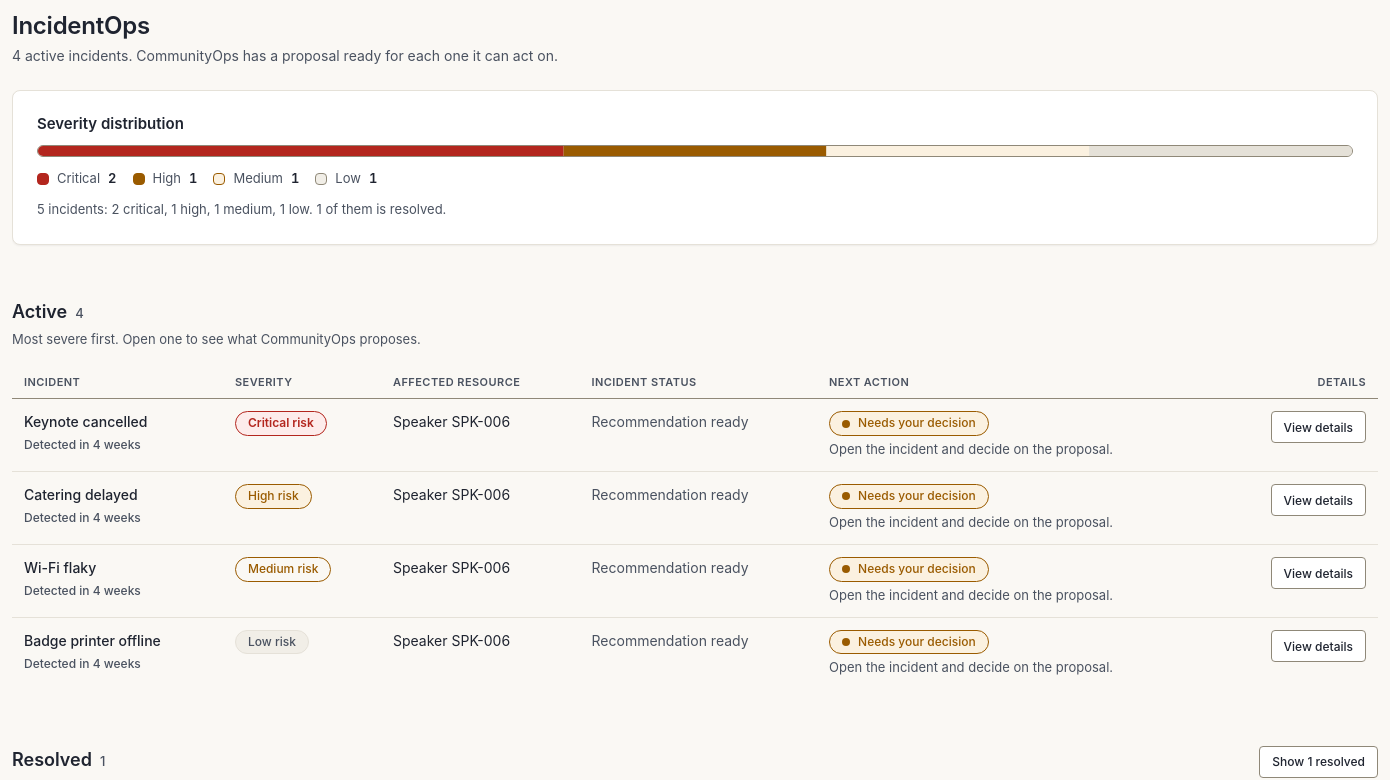
severity ordering (requirement 8.1) › renders CRITICAL first and collapses resolved incidents below the active ones
Expected: the table named "Active incidents" is shown, [12,366,1378,690]
What coordinates should you click on to do the following:
click the button "Show 1 resolved"
I would click on:
 (1319, 762)
Its box is [1259,746,1378,778].
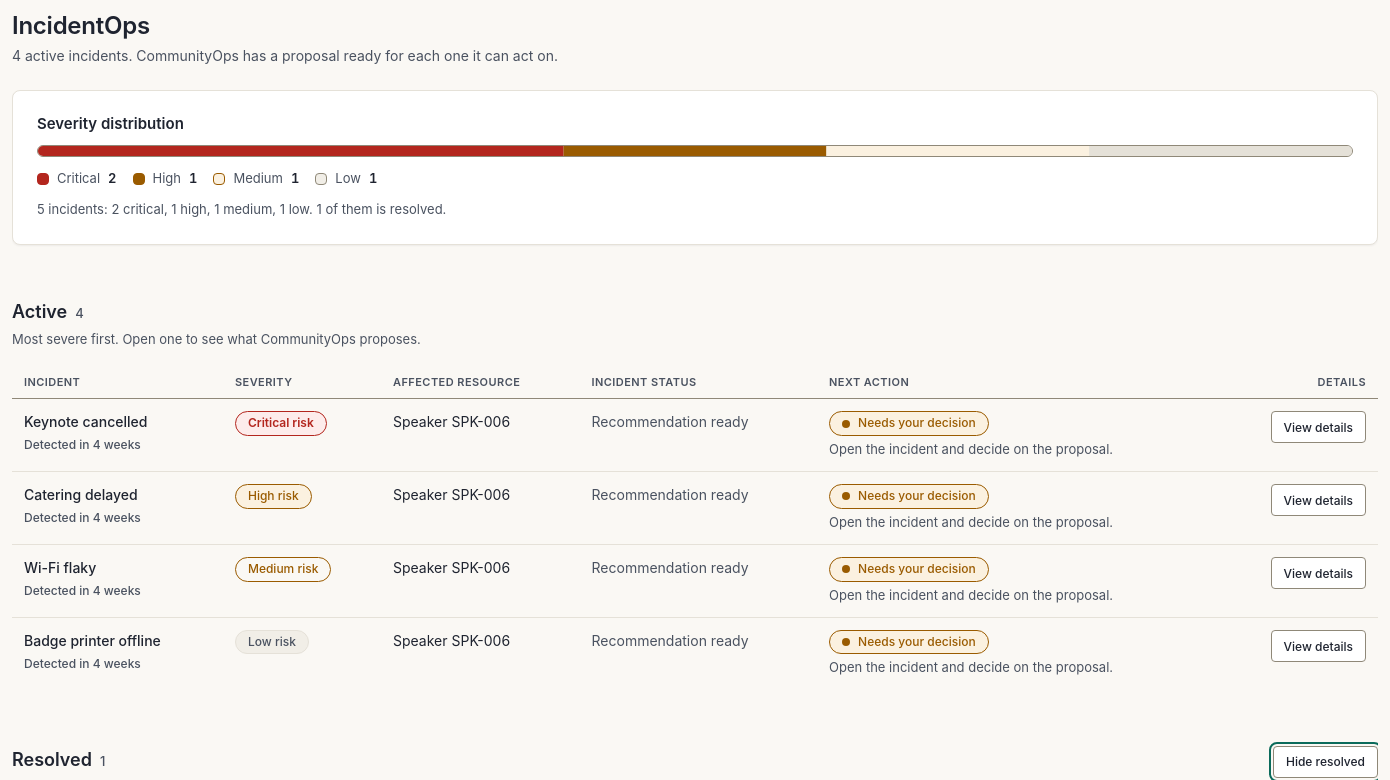
Expected: the button "Hide resolved" is expanded, [1273,746,1378,778]
